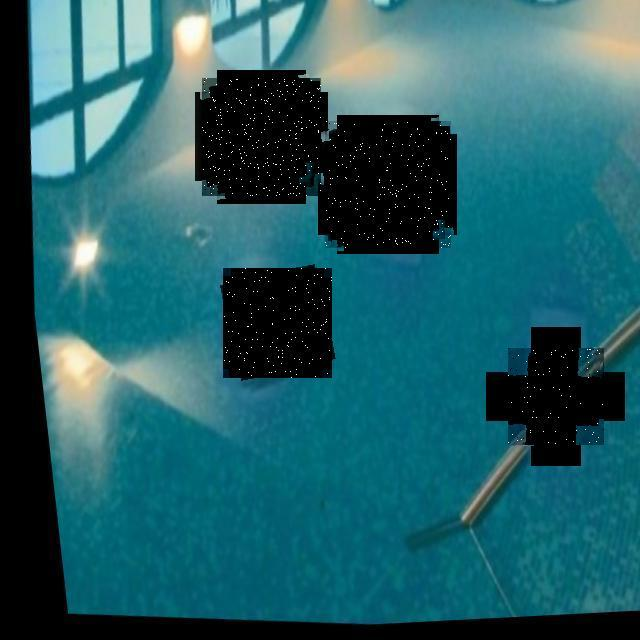swimming: (325, 121, 451, 248), (202, 78, 321, 196), (223, 268, 332, 378), (508, 348, 604, 445)
